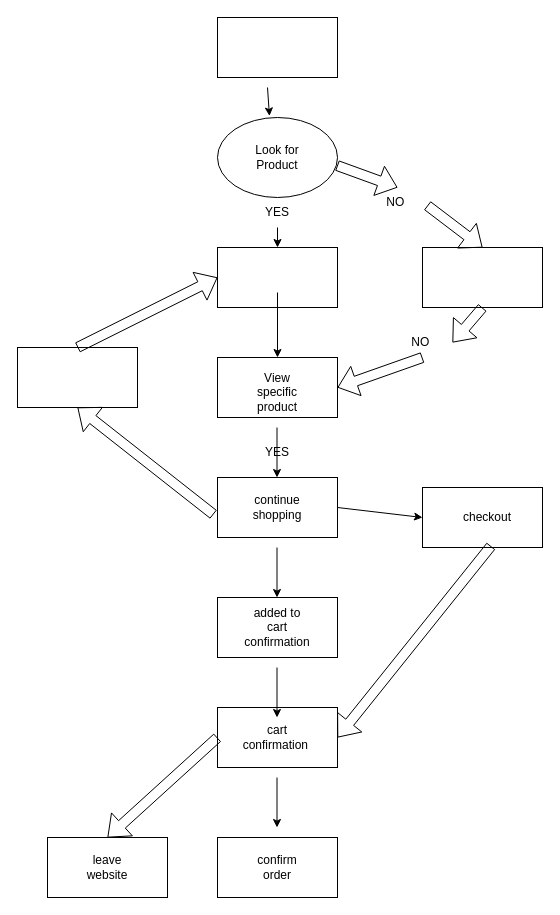
Some shapes in this 560 by 915 pixel diagram are drawn without their labels. The shapes that lost their labels are listed below. From the top down, each one's centre as x and y in pixels, then its label:
At (x=277, y=47): "Enter/Start Website".
At (x=277, y=277): "Provide input for search".
At (x=482, y=277): "keep shopping".
At (x=77, y=377): "Look for products".
